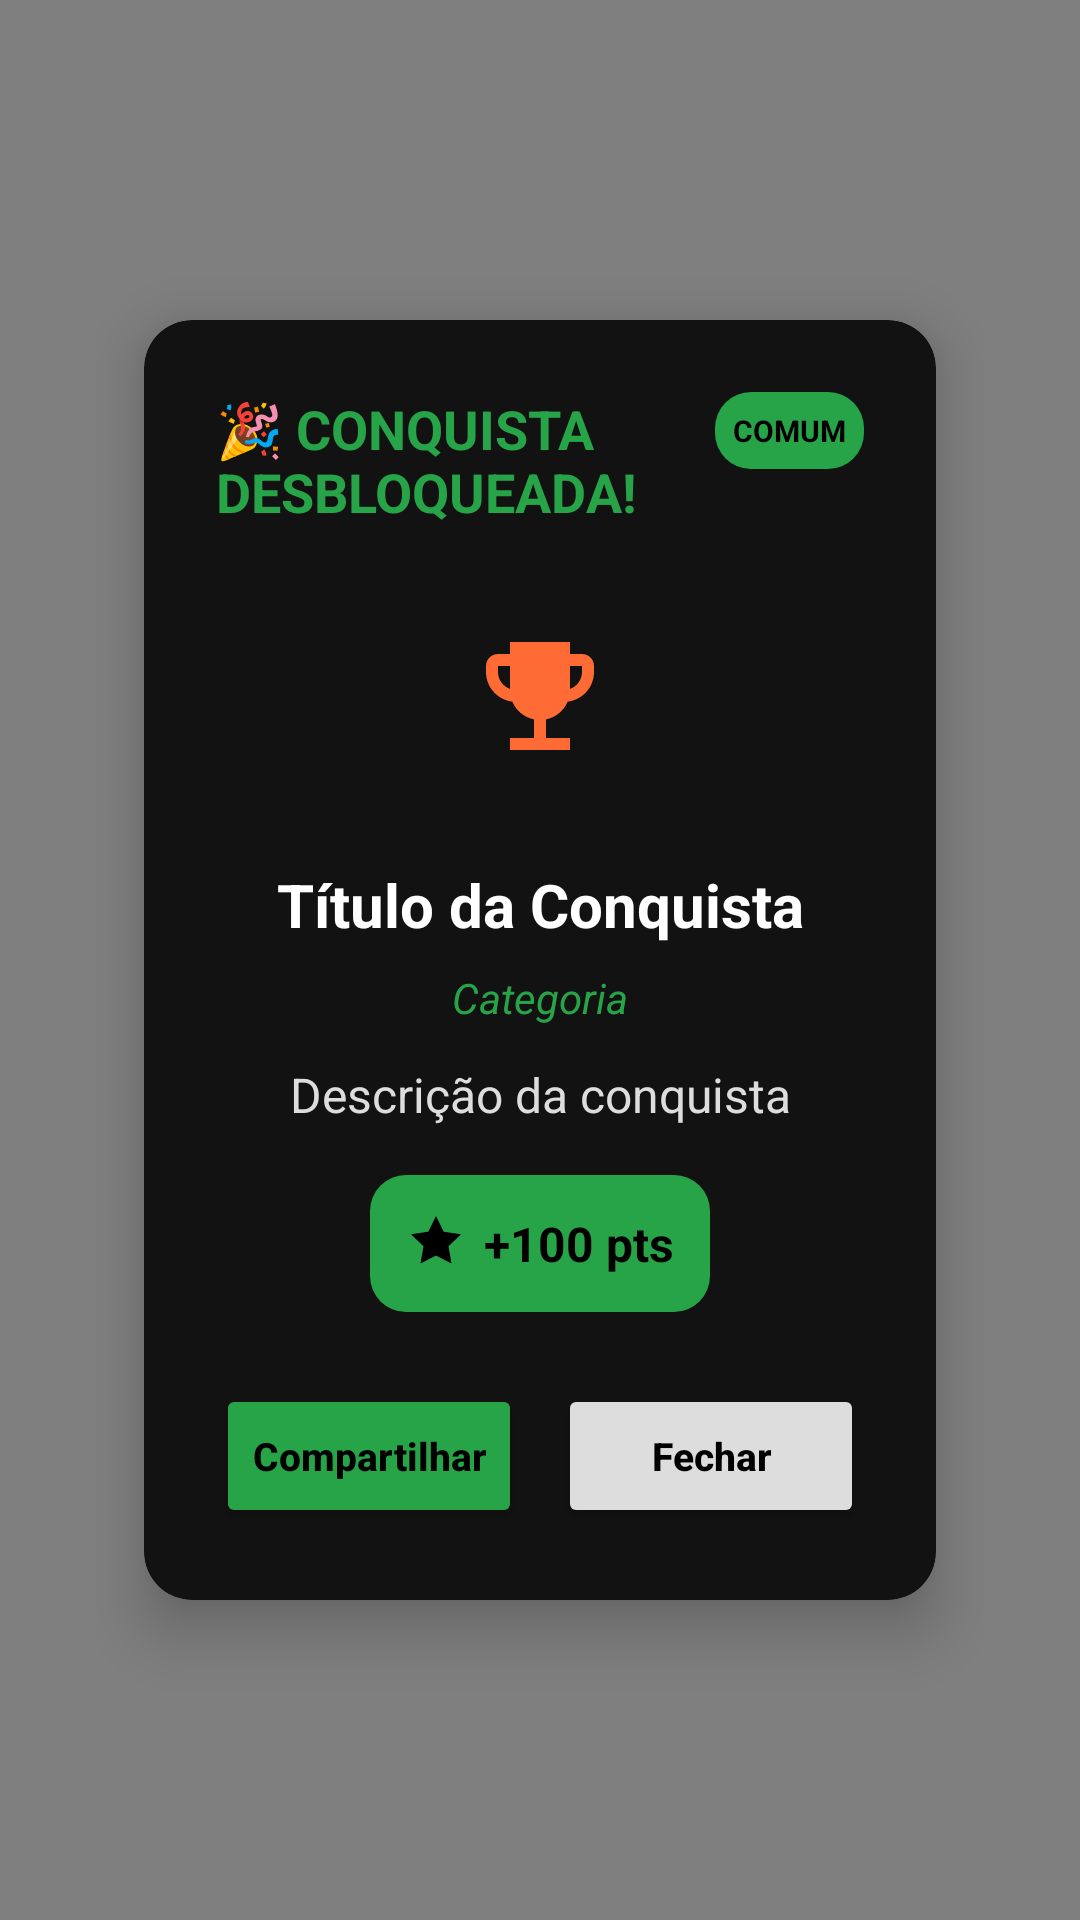

Screen size 1080x1920. Icon name, then its center in pixels as point (x, y):
star: point (436, 1240)
trophy: point (540, 696)
